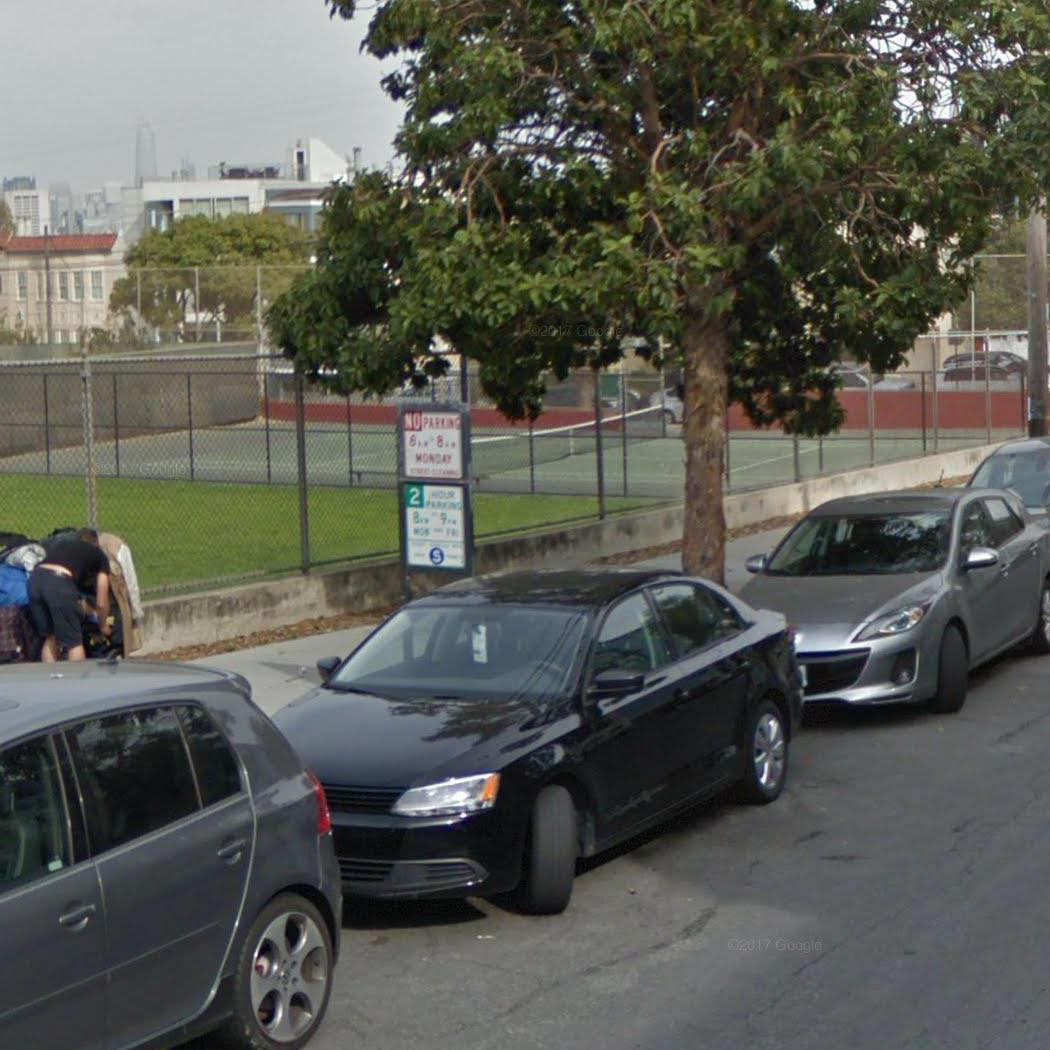2 Hour Parking: (395, 474, 472, 574)
No Parking: (396, 403, 473, 484)
